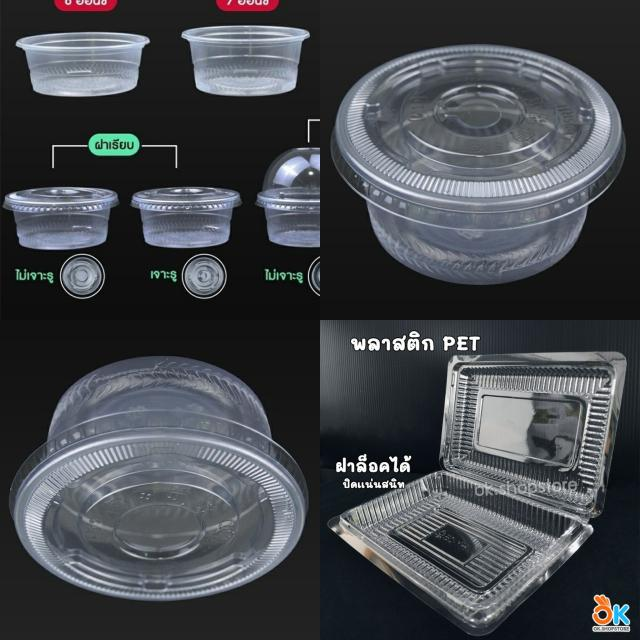Single-Use-Plastic: (329, 352, 626, 634), (10, 356, 308, 600), (331, 45, 625, 285), (181, 25, 310, 96), (16, 32, 149, 96), (4, 186, 119, 250), (131, 186, 241, 248), (256, 148, 320, 247)
